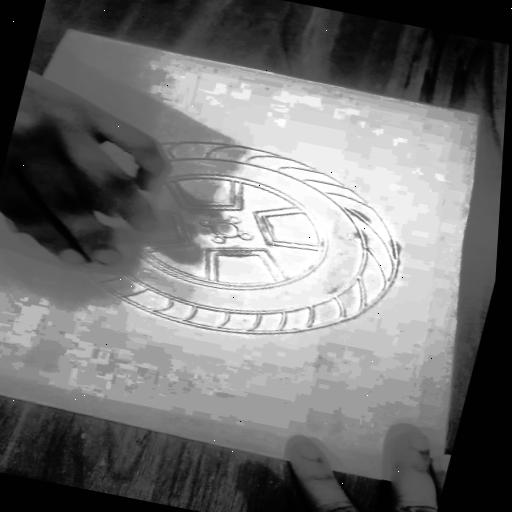bottom_right: (63, 25, 78, 35)
tire: (21, 92, 429, 366)
top_right: (469, 109, 489, 121)
